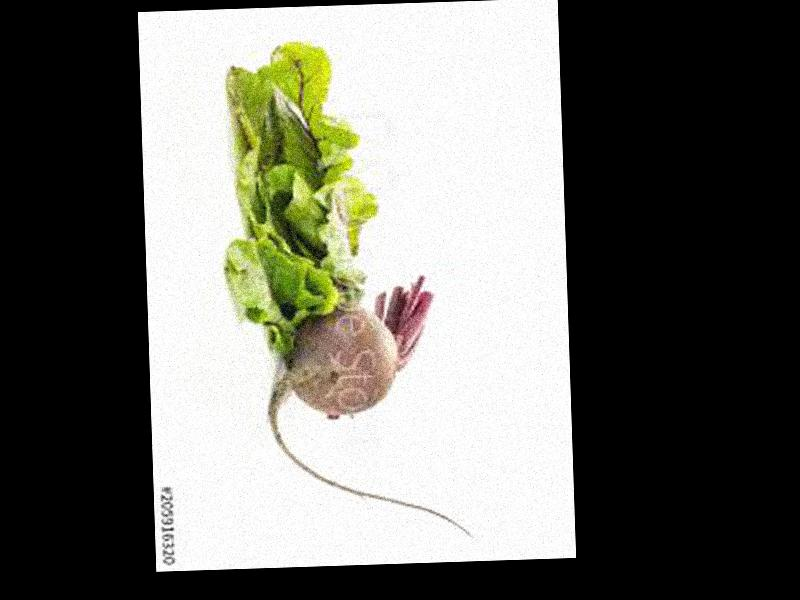Beet: (263, 270, 476, 549)
